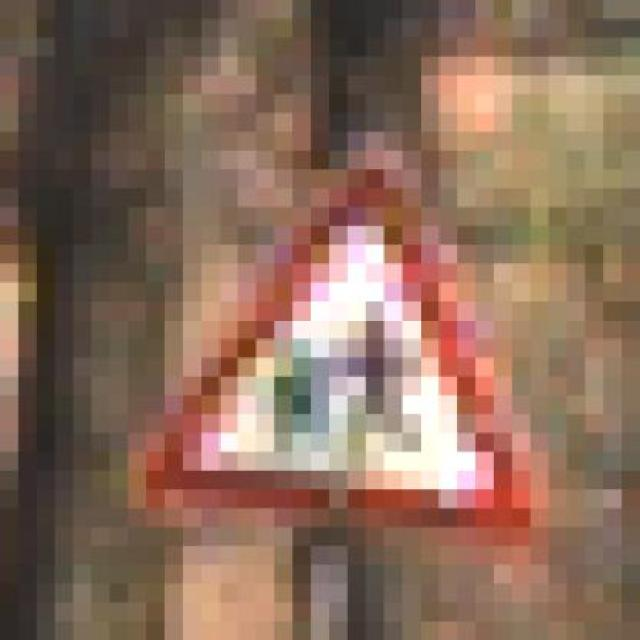Beware of children: (128, 132, 568, 546)
